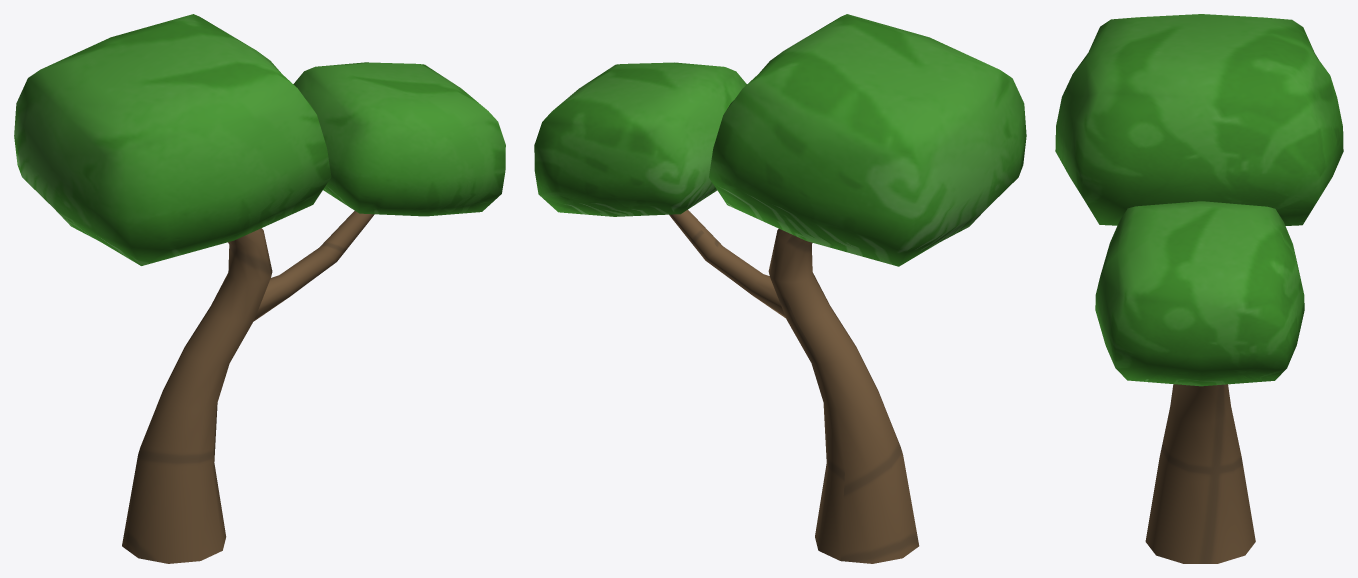
File: UnaTree1.dae
The picture shows the model from 3 angles, left to right: view 1: azimuth 30°, elevation 25°; view 2: azimuth 150°, elevation 25°; view 3: azimuth 270°, elevation 25°; orthographic projection. The views are drawn at different scales.
Visible parts, largest first — view 1: Cube; view 2: Cube; view 3: Cube.
Part boxes in pixels (left/top/right/bottom): Cube: left=14, top=14, right=505, bottom=563; Cube: left=534, top=14, right=1026, bottom=563; Cube: left=1055, top=14, right=1343, bottom=563.
Size of the model in its own units: 4.94 by 2.8 by 5.41.
1 material, 1 textured.
